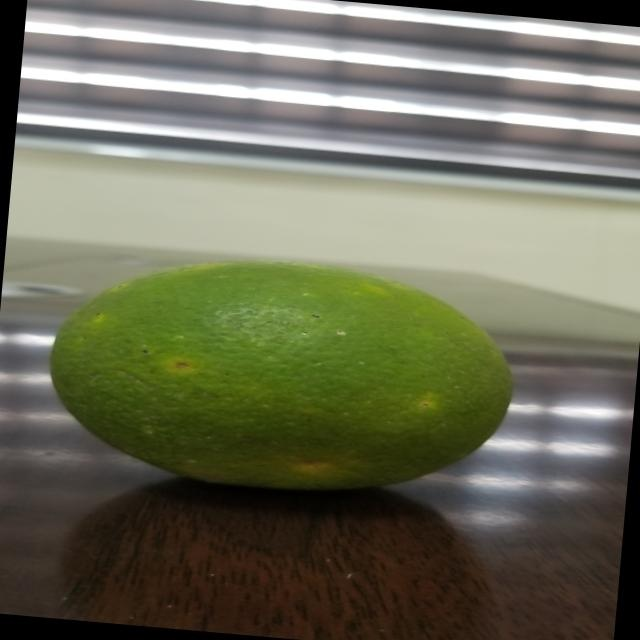agrume: (41, 224, 547, 512)
